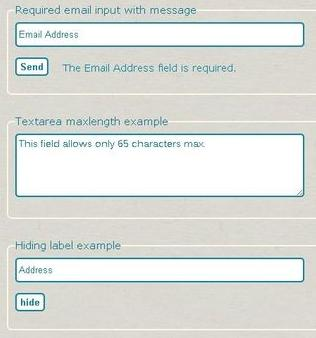button: (14, 56, 50, 76), (16, 292, 45, 312)
field: (14, 133, 305, 198), (15, 256, 306, 284), (14, 21, 306, 48)
field_with_label: (11, 116, 307, 200), (12, 238, 308, 285)
